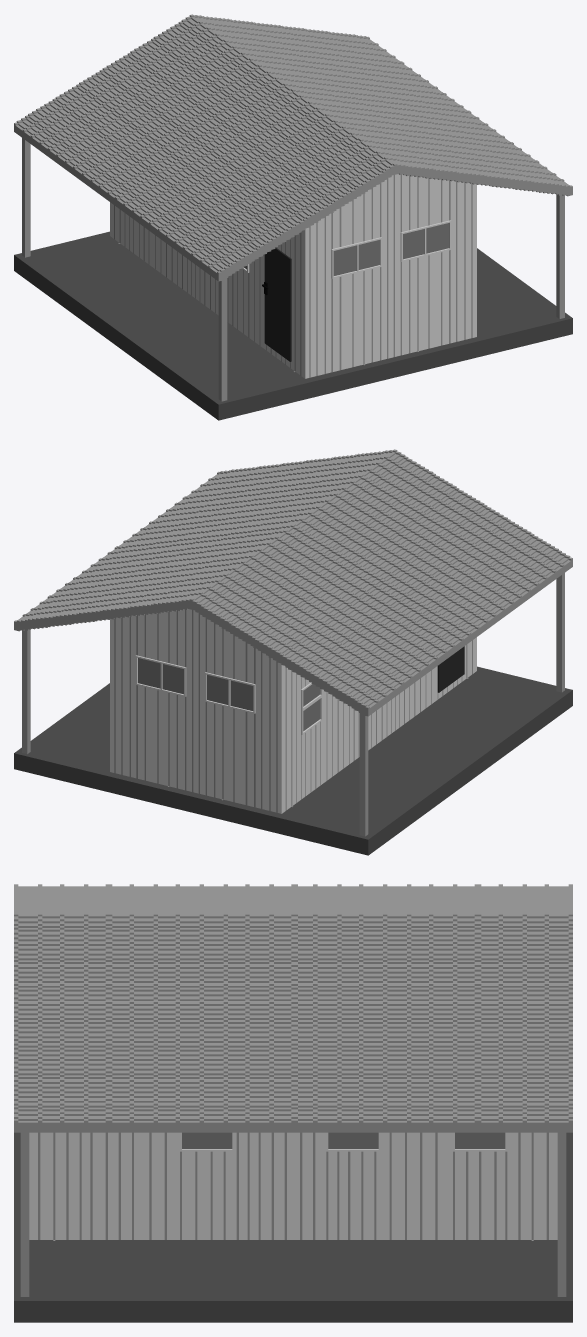
The model's file is home1.obj.
3 renders of one model, top to bottom at view 1: azimuth 30°, elevation 25°; view 2: azimuth 150°, elevation 25°; view 3: azimuth 270°, elevation 25°, orthographic. The views are drawn at different scales.
Bounding box in the file's own units: 25.6 × 14.7 × 25.6.
Materials: 1 (1 with a texture image).
